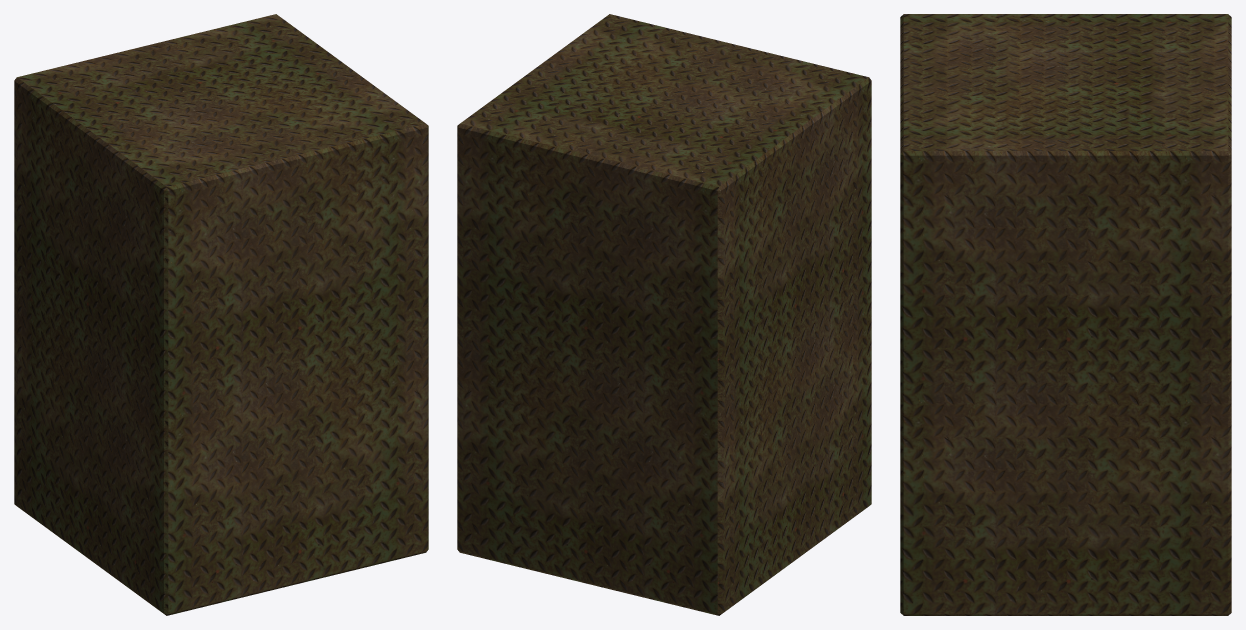
The model's file is modelo-metal-62x62x96.glb.
The picture shows the model from 3 angles, left to right: view 1: azimuth 30°, elevation 25°; view 2: azimuth 150°, elevation 25°; view 3: azimuth 270°, elevation 25°; orthographic projection. The views are drawn at different scales.
Visible parts, largest first — view 1: modelo-metal-62x62x96; view 2: modelo-metal-62x62x96; view 3: modelo-metal-62x62x96.
Boxes of the visible parts, x1=… form: modelo-metal-62x62x96: x1=14, y1=14, x2=428, y2=615; modelo-metal-62x62x96: x1=457, y1=14, x2=871, y2=615; modelo-metal-62x62x96: x1=900, y1=14, x2=1231, y2=615.
Bounding box in the file's own units: 0.62 × 0.96 × 0.62.
Materials: 1 (1 with a texture image).
